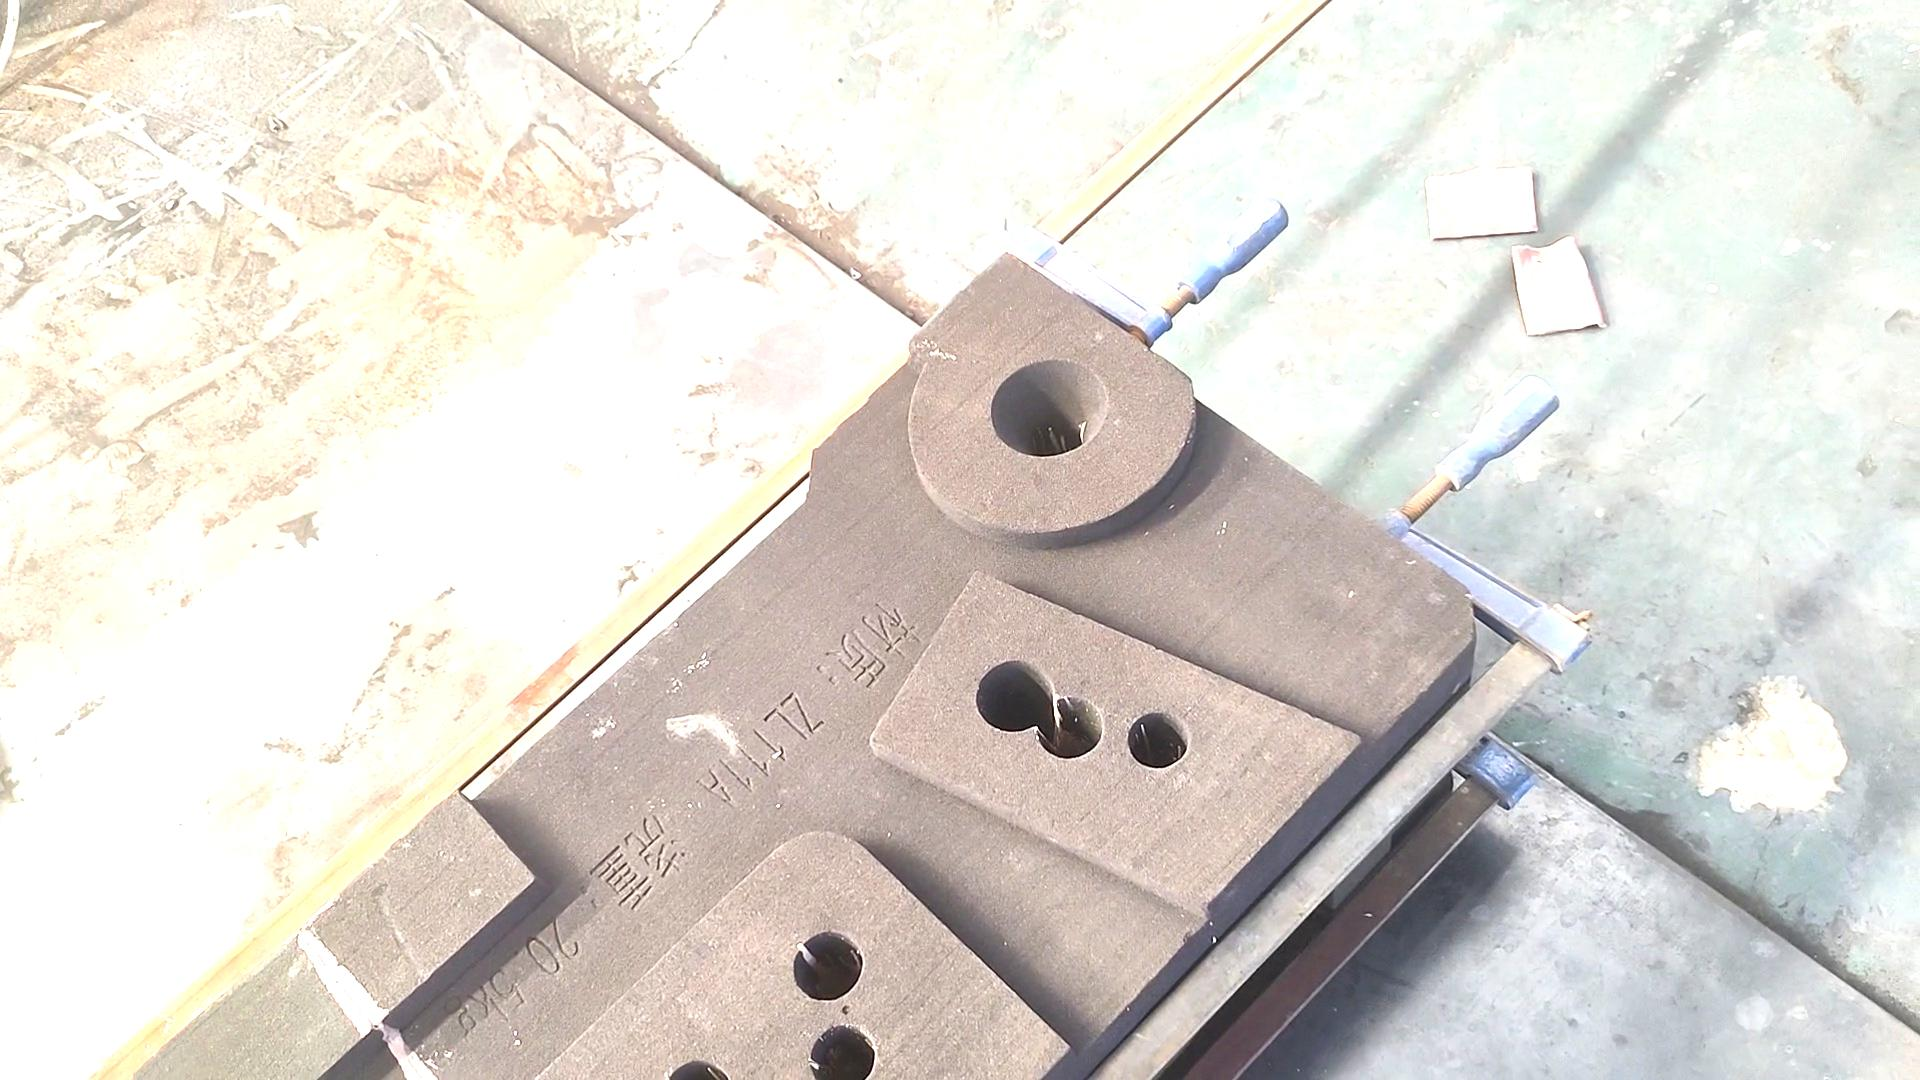pouring hole: (990, 357, 1109, 458)
